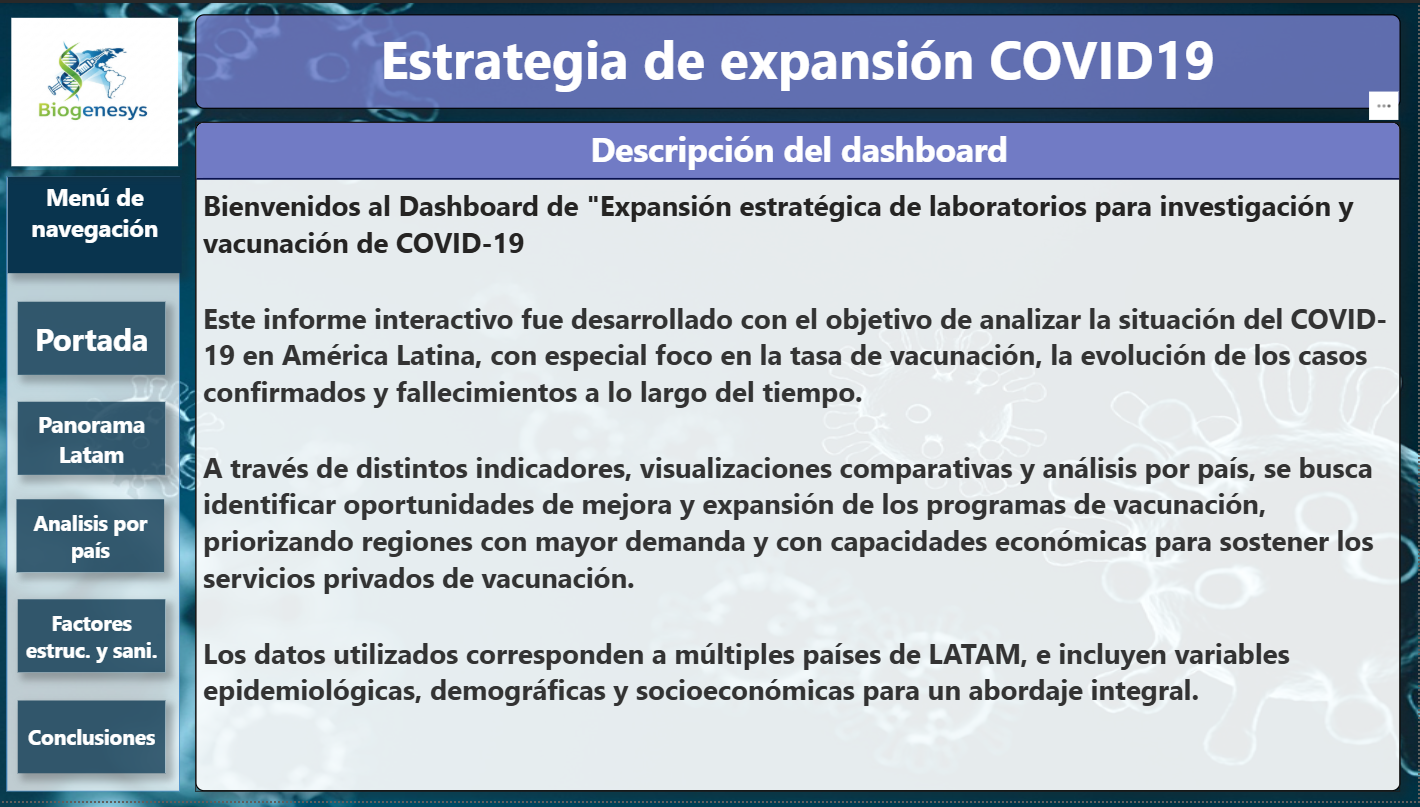

The dashboard page shown, as its layout file describes it:
{"tool":"powerbi","page":{"name":"Portada","canvas":[1920,1080],"ordinal":0},"visuals":[{"type":"shape","box":[10.3,234.6,234.6,831.6],"z":0},{"type":"textbox","box":[24.7,251.1,199.7,113.2],"z":1000},{"type":"actionButton","box":[24.7,942.7,199.7,98.8],"z":2000},{"type":"textbox","box":[265.5,14.4,1630.2,127.6],"z":3000},{"type":"image","box":[10.3,14.4,234.6,212],"z":4000},{"type":"actionButton","box":[26.1,806.1,199.7,98.9],"z":5000},{"type":"actionButton","box":[26.1,673.6,199.7,98.9],"z":6000},{"type":"actionButton","box":[24.3,404.9,199.7,98.9],"z":7000},{"type":"textbox","title":"Descripción del dashboard","box":[265.5,160.5,1630.2,905.7],"z":8000},{"type":"actionButton","box":[26.1,539.3,199.7,98.9],"z":9000}]}

Visuals, with their boxes in screenshot pixels (x1, y1, x2, y2), scaled from the page's 1920x1080 canvas onto the 1420x807 screenshot:
shape: [8,175,181,797]
textbox: [18,188,166,272]
actionButton: [18,704,166,778]
textbox: [196,11,1402,106]
image: [8,11,181,169]
actionButton: [19,602,167,676]
actionButton: [19,503,167,577]
actionButton: [18,303,166,376]
"Descripción del dashboard" textbox: [196,120,1402,797]
actionButton: [19,403,167,477]
